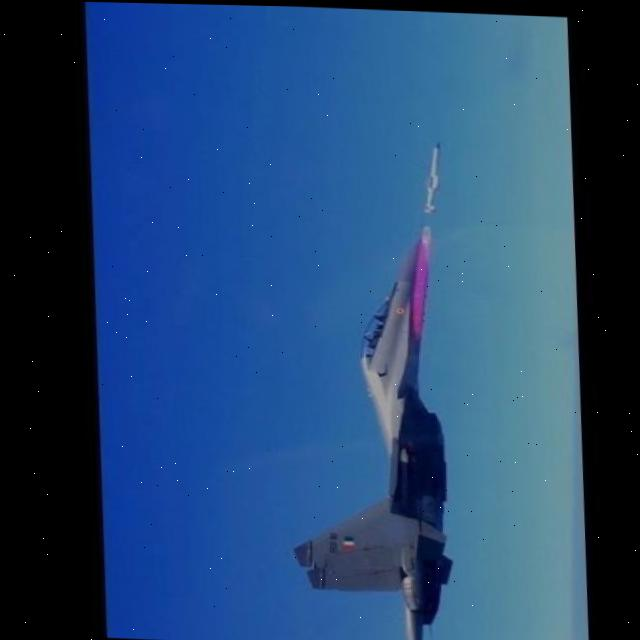missile: (410, 131, 453, 220)
